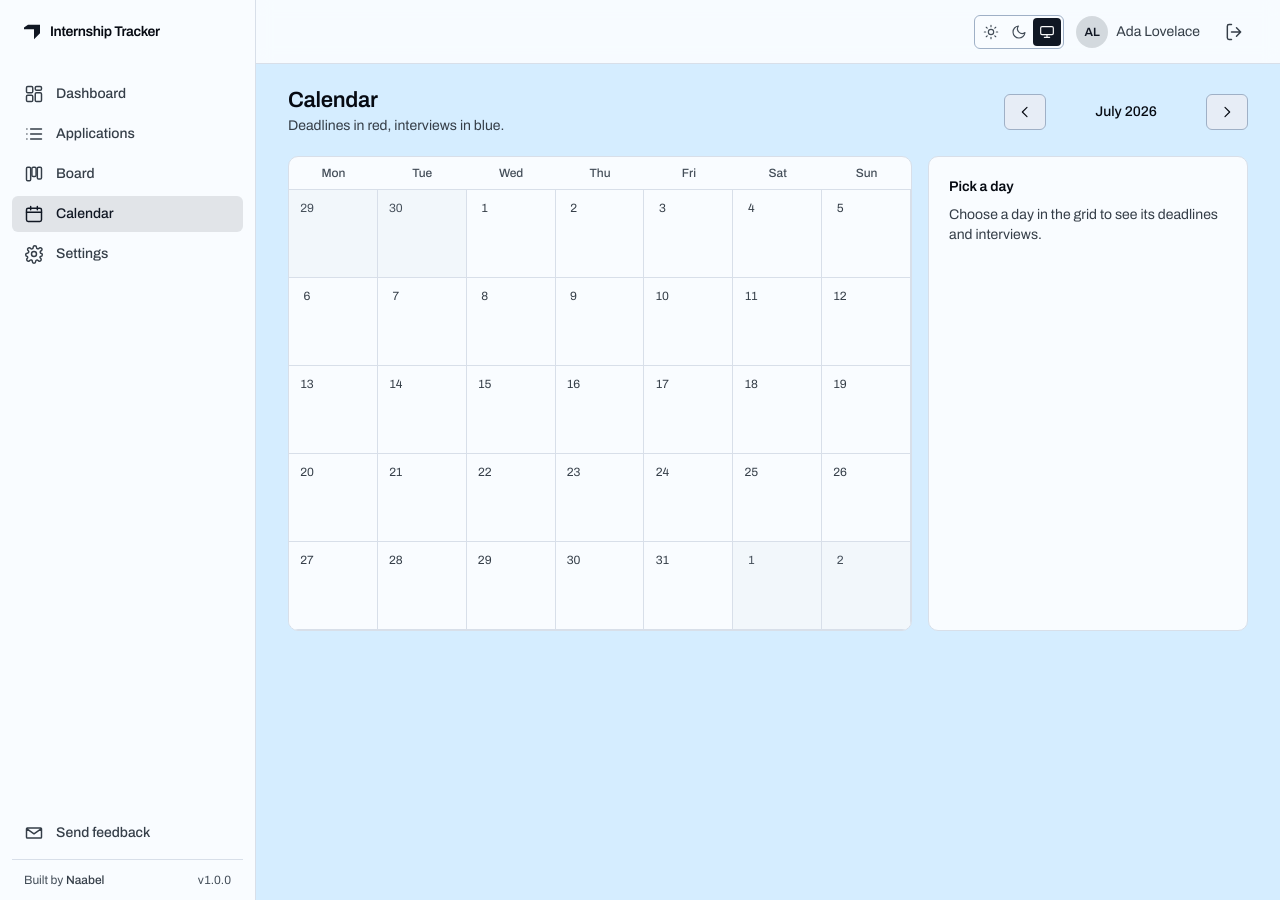
Scenario: day panel heading › viewing 2026-07 and picking 5 July 2026 reads "Sunday 5 July"
This screenshot has width=1280, height=900.
Click the cell "5" at (866, 234), box [822,190,911,278]
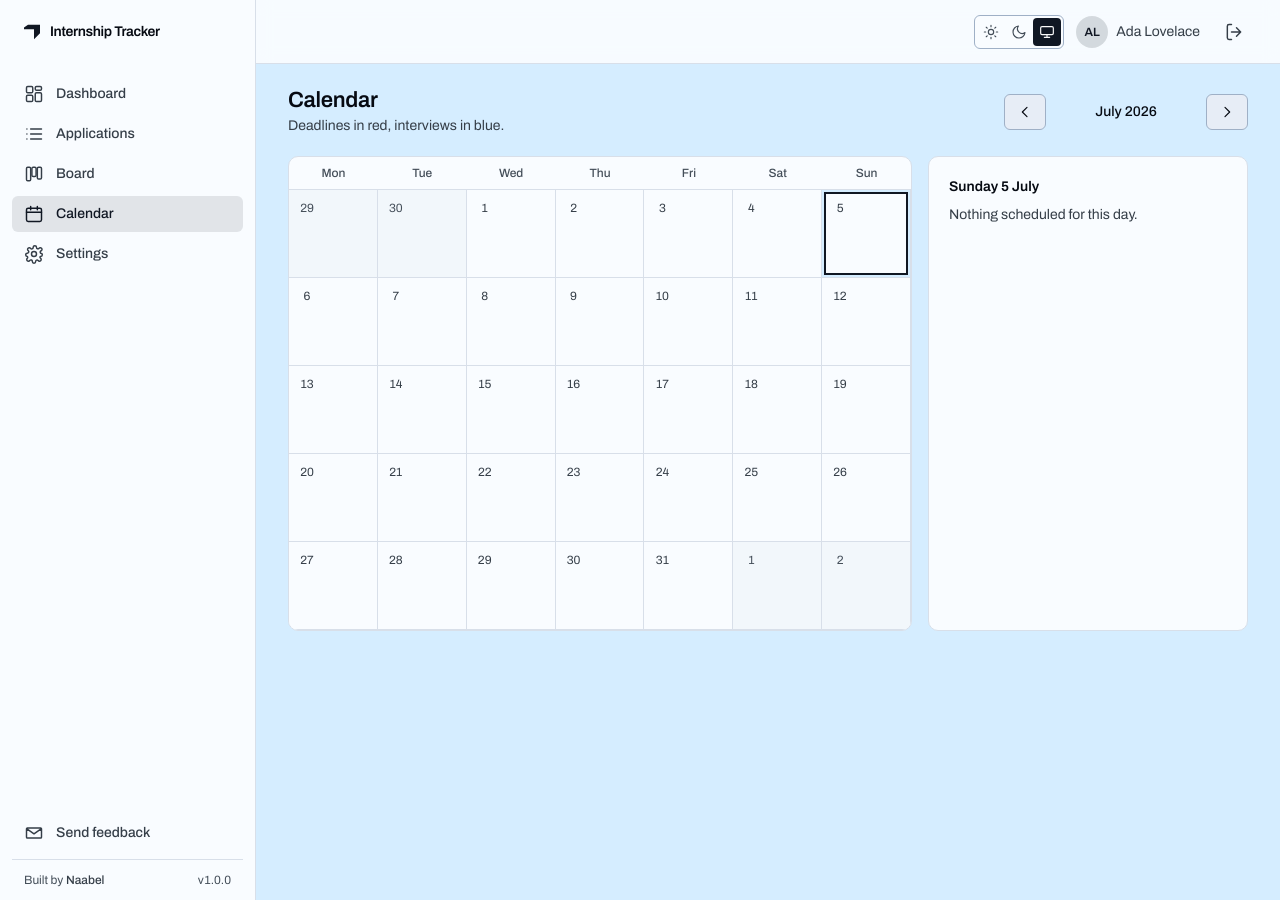
Expected: the heading "Sunday 5 July" is shown, [949,179,1039,194]
